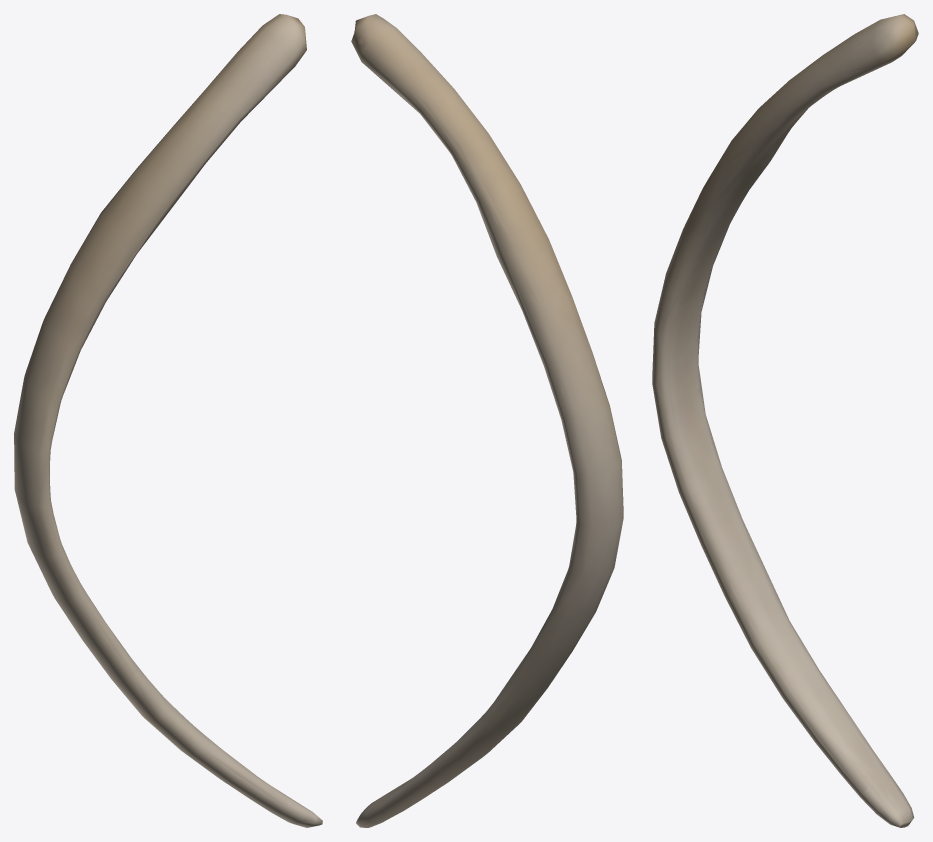
The model's file is Rib R02.fbx.
3 renders of one model, left to right at view 1: azimuth 30°, elevation 25°; view 2: azimuth 150°, elevation 25°; view 3: azimuth 330°, elevation 25°, orthographic. The views are drawn at different scales.
Visible parts, largest first — view 1: Rib R02, Rib R02 low, Rib R02 high; view 2: Rib R02, Rib R02 low, Rib R02 high; view 3: Rib R02, Rib R02 high, Rib R02 low.
Part boxes in pixels (left/top/right/bottom): Rib R02: left=14, top=14, right=322, bottom=827; Rib R02 low: left=14, top=14, right=320, bottom=826; Rib R02 high: left=27, top=54, right=303, bottom=825; Rib R02: left=351, top=14, right=623, bottom=827; Rib R02 low: left=353, top=15, right=622, bottom=812; Rib R02 high: left=354, top=30, right=619, bottom=820; Rib R02: left=652, top=14, right=918, bottom=827; Rib R02 high: left=659, top=28, right=915, bottom=822; Rib R02 low: left=654, top=14, right=914, bottom=826.
Bounding box in the file's own units: 4.21 × 11.83 × 1.34.
1 material, 1 textured.
